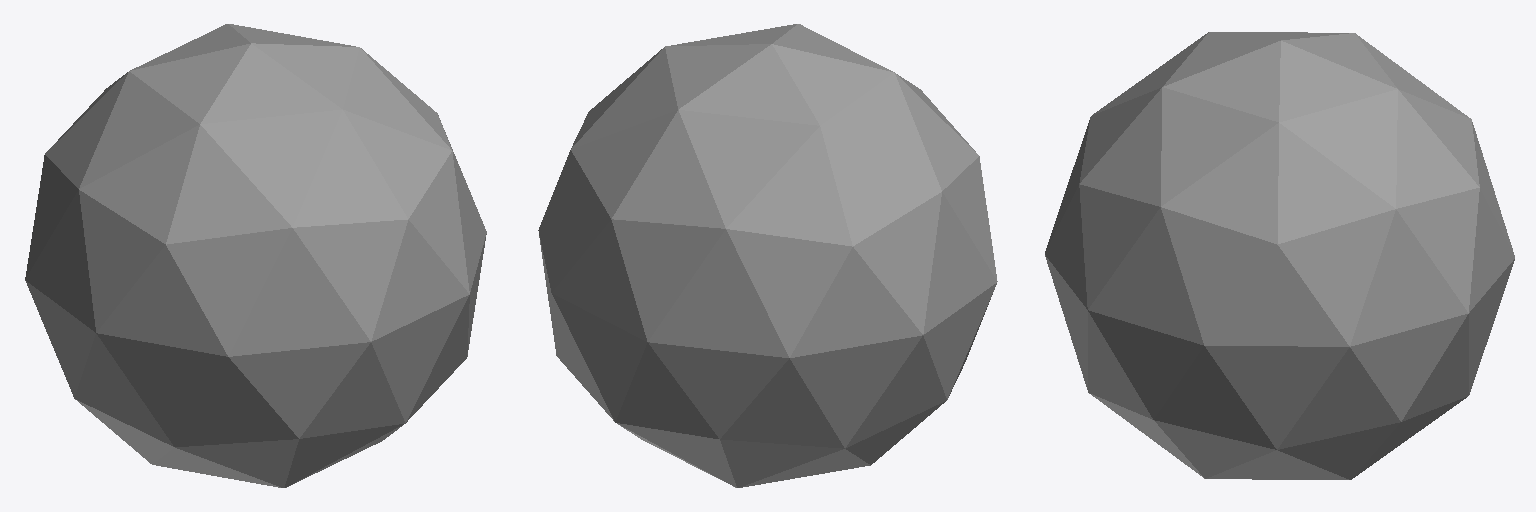
Rendered from texSphere.obj.
3 renders of one model, left to right at view 1: azimuth 30°, elevation 25°; view 2: azimuth 150°, elevation 25°; view 3: azimuth 270°, elevation 25°, orthographic.
Visible parts, largest first — view 1: Icosphere_Icosphere.001; view 2: Icosphere_Icosphere.001; view 3: Icosphere_Icosphere.001.
Part boxes in pixels (x1,y1,x2,y2): Icosphere_Icosphere.001: (25, 24, 486, 487); Icosphere_Icosphere.001: (538, 24, 997, 487); Icosphere_Icosphere.001: (1045, 32, 1514, 479).
Size of the model in its own units: 1.91 by 2 by 2.